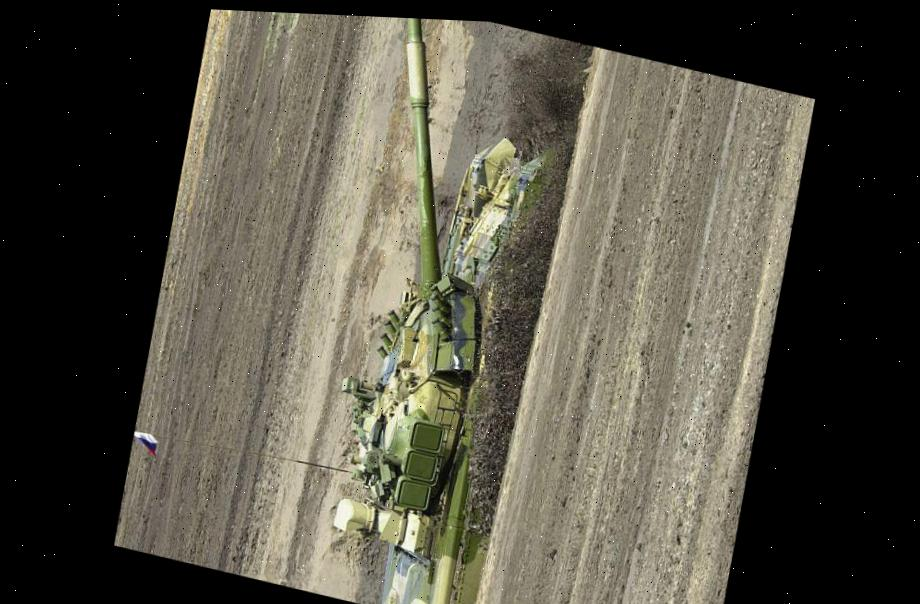tank: (271, 12, 590, 604)
